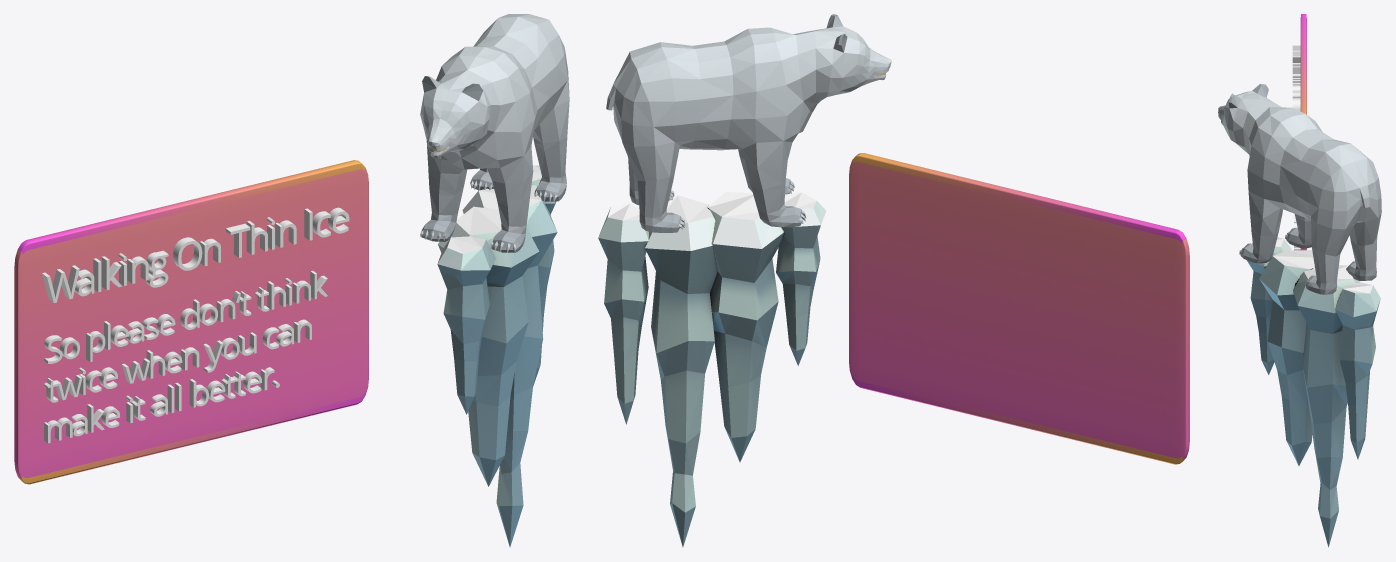
Rendered from social good.obj.
The picture shows the model from 3 angles, left to right: view 1: azimuth 30°, elevation 25°; view 2: azimuth 150°, elevation 25°; view 3: azimuth 270°, elevation 25°; orthographic projection. The views are drawn at different scales.
Visible parts, largest first — view 1: 069_Rectagle_with_bevel, 065_Bear, 068_Icicle, 049_W; view 2: 069_Rectagle_with_bevel, 068_Icicle, 065_Bear; view 3: 068_Icicle, 065_Bear, 069_Rectagle_with_bevel.
Part boxes in pixels (left/top/right/bottom): 069_Rectagle_with_bevel: left=14, top=160, right=368, bottom=484; 065_Bear: left=420, top=14, right=569, bottom=252; 068_Icicle: left=437, top=165, right=557, bottom=547; 049_W: left=42, top=265, right=79, bottom=302; 069_Rectagle_with_bevel: left=849, top=153, right=1189, bottom=464; 068_Icicle: left=598, top=192, right=826, bottom=547; 065_Bear: left=606, top=14, right=891, bottom=232; 068_Icicle: left=1247, top=237, right=1380, bottom=547; 065_Bear: left=1218, top=83, right=1381, bottom=294; 069_Rectagle_with_bevel: left=1300, top=14, right=1306, bottom=250.
Size of the model in its own units: 318 by 281 by 100.
Materials: 6 (3 with a texture image).
